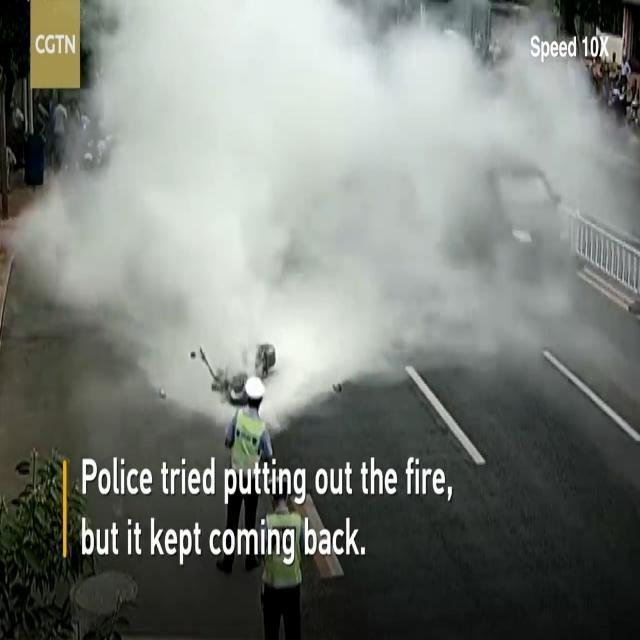Smoke: (9, 0, 597, 423)
